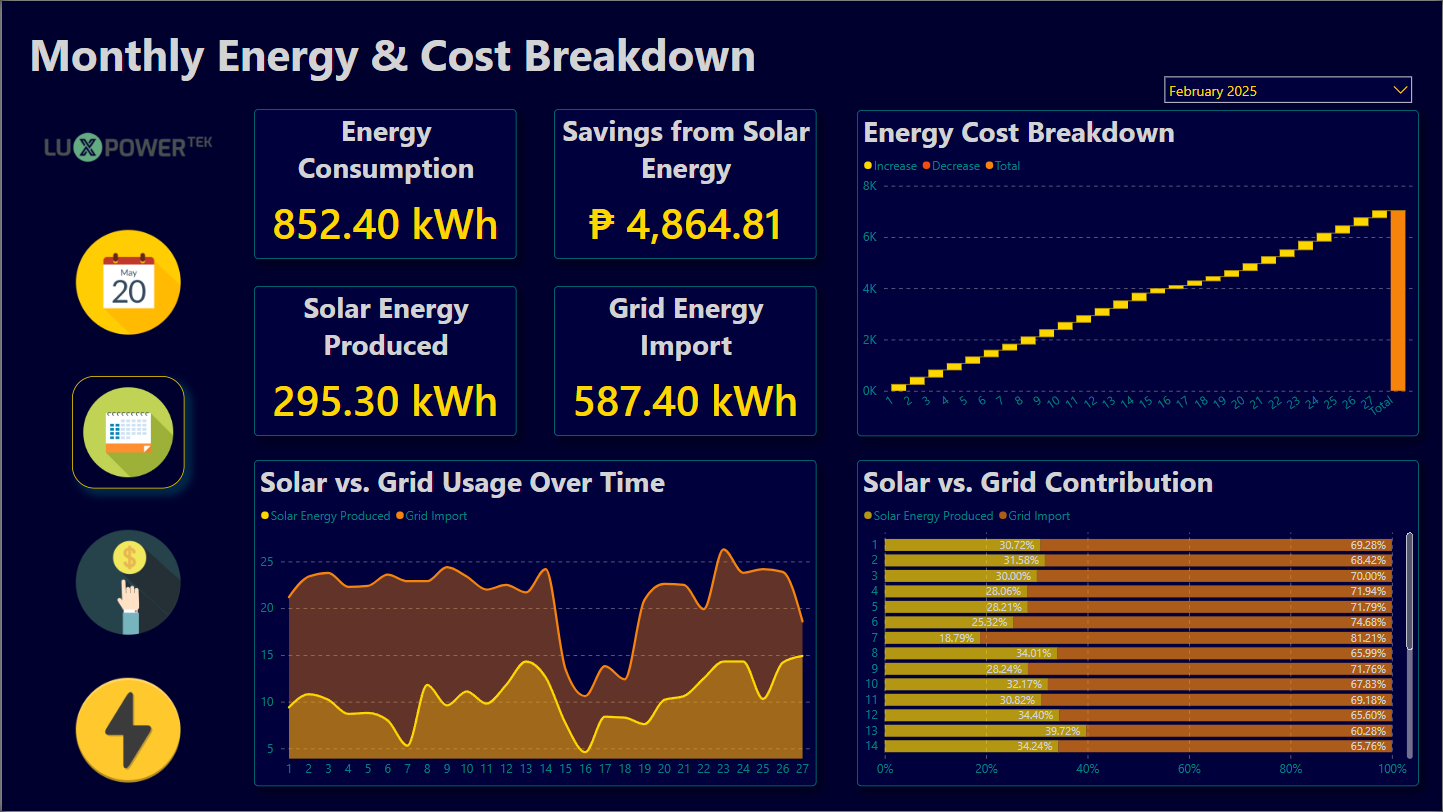

The page's visual inventory and layout, read from the dashboard file:
{"tool":"powerbi","page":{"name":"Monthly Energy & Cost Breakdown","canvas":[1920,1080],"ordinal":2},"visuals":[{"type":"textbox","box":[30,25,1300,90],"z":0},{"type":"card","title":"Energy Consumption","fields":{"Values":["luxpower._Total_Energy_Consumption_Text"]},"box":[336.4,144.6,350,200],"z":1000},{"type":"image","box":[0,144.6,336,100],"z":2000},{"type":"card","title":"Savings from Solar Energy","fields":{"Values":["luxpower._Monthly_Savings_Text"]},"box":[736.4,144.6,350,200],"z":3000},{"type":"card","title":"Grid Energy Import","fields":{"Values":["luxpower._Total_Grid_Import_Text"]},"box":[736.4,379.7,350,200],"z":4000},{"type":"card","title":"Solar Energy Produced","fields":{"Values":["luxpower._Total_Solar_Energy_Produced_Text"]},"box":[336.4,379.7,350,200],"z":5000},{"type":"slicer","fields":{"Values":["luxpower.MonthYear"]},"box":[1540.3,90.5,350,50],"z":6000},{"type":"areaChart","title":"Solar vs. Grid Usage Over Time","fields":{"Y":["luxpower._Monthly_Solar_Energy_Produced","luxpower._Monthly_Grid_Import"],"Category":["luxpower._FormattedDate.Variation.Date Hierarchy.Day"]},"box":[336.4,612.1,749.9,435.1],"z":7000},{"type":"image","box":[93.5,500,150.1,150.1],"z":8000},{"type":"image","box":[93.5,300,150.1,150.1],"z":9000},{"type":"image","box":[93.5,896.9,150.1,150.1],"z":10000},{"type":"image","box":[93.5,700,150.1,150.1],"z":11000},{"type":"hundredPercentStackedBarChart","title":"Solar vs. Grid Contribution","fields":{"Category":["luxpower._FormattedDate.Variation.Date Hierarchy.Day"],"Y":["luxpower._Monthly_Solar_Energy_Produced","luxpower._Monthly_Grid_Import"]},"box":[1140.4,612.4,749.2,435.4],"z":12000},{"type":"waterfallChart","title":"Energy Cost Breakdown","fields":{"Category":["luxpower._FormattedDate.Variation.Date Hierarchy.Day"],"Y":["luxpower._Monthly_Electricity_Cost"]},"box":[1140.4,145.1,749.2,435.4],"z":13000}]}

Visuals, with their boxes in screenshot pixels (x1, y1, x2, y2), scaled from the page's 1920x1080 canvas onto the 1443x812 screenshot:
textbox: 23/19/1000/86
"Energy Consumption" card: 253/109/516/259
image: 0/109/253/184
"Savings from Solar Energy" card: 553/109/816/259
"Grid Energy Import" card: 553/285/816/436
"Solar Energy Produced" card: 253/285/516/436
slicer - luxpower.MonthYear: 1158/68/1421/106
"Solar vs. Grid Usage Over Time" areaChart: 253/460/816/787
image: 70/376/183/489
image: 70/226/183/338
image: 70/674/183/787
image: 70/526/183/639
"Solar vs. Grid Contribution" hundredPercentStackedBarChart: 857/460/1420/788
"Energy Cost Breakdown" waterfallChart: 857/109/1420/436
